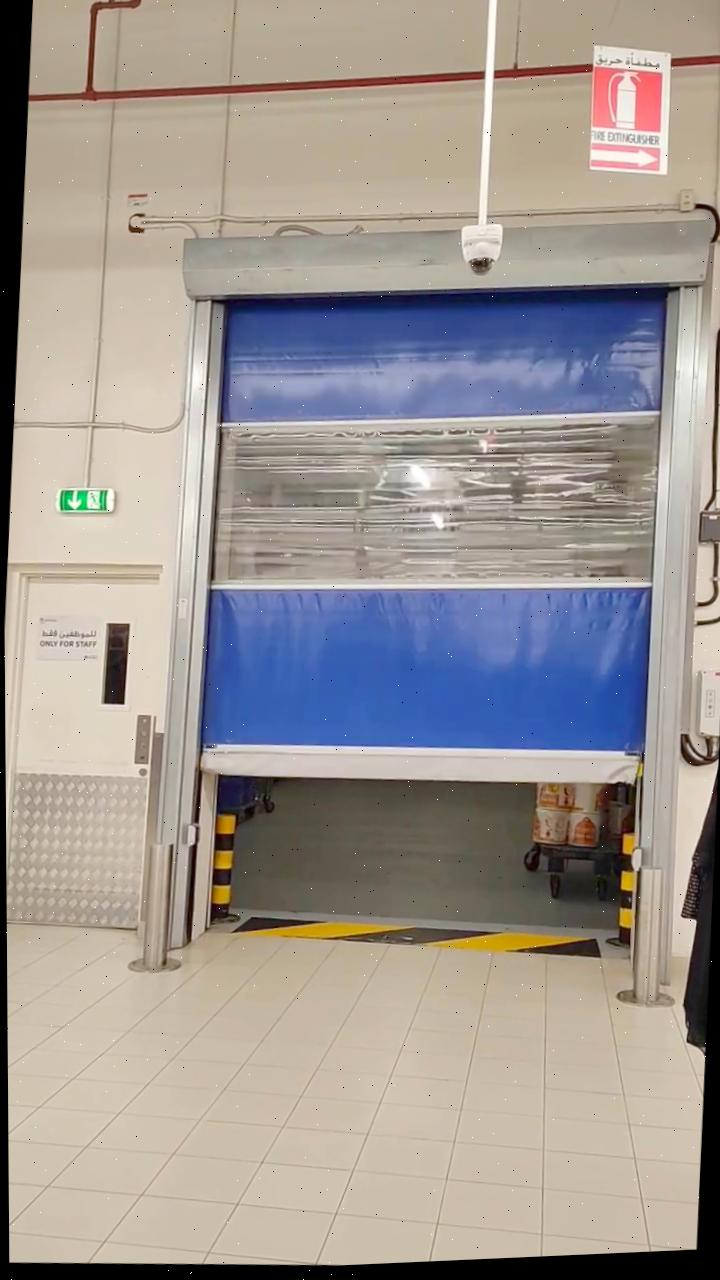Strip: (236, 898, 607, 984)
